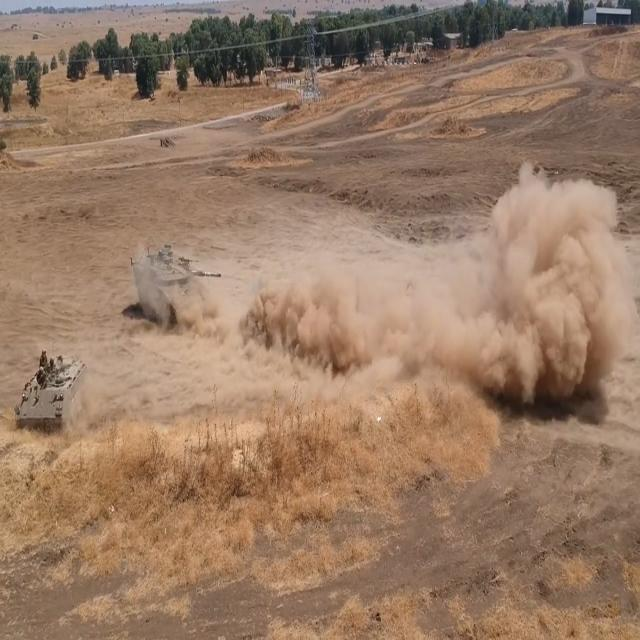tank: (129, 242, 226, 341)
